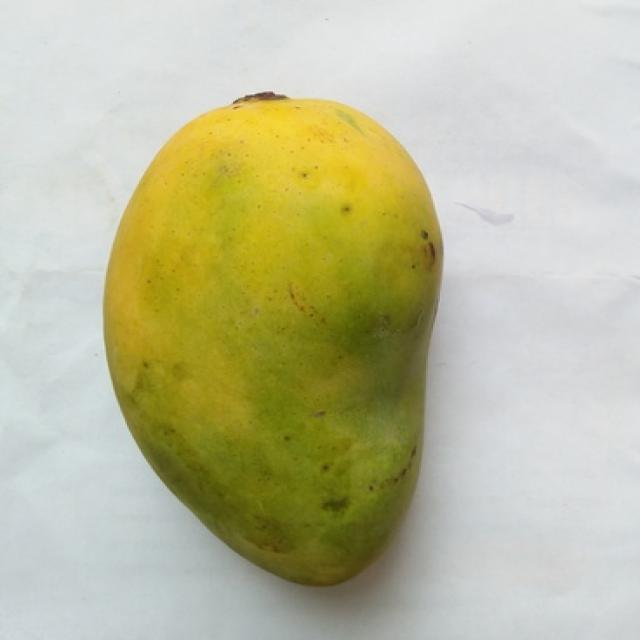Mango: (104, 93, 442, 583)
